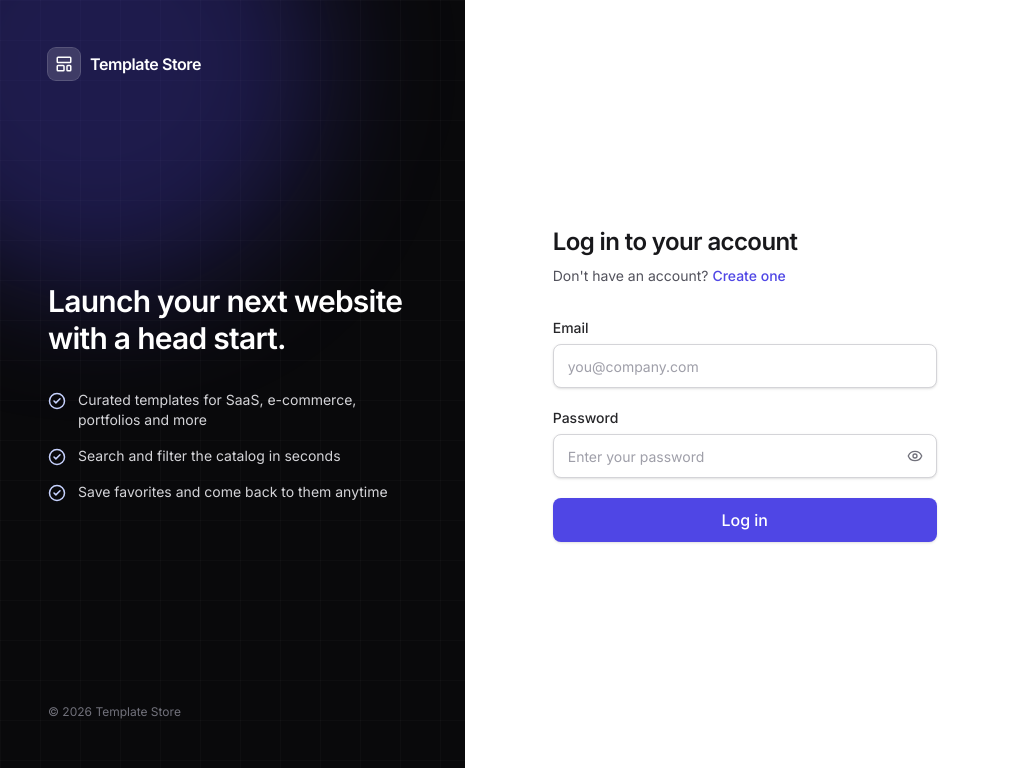
Scenario: Protected routes › returns the user to the page they originally requested after login
Type "ada@example.com" into the field labelled "Email". click: (745, 366)
box: [553,344,937,388]
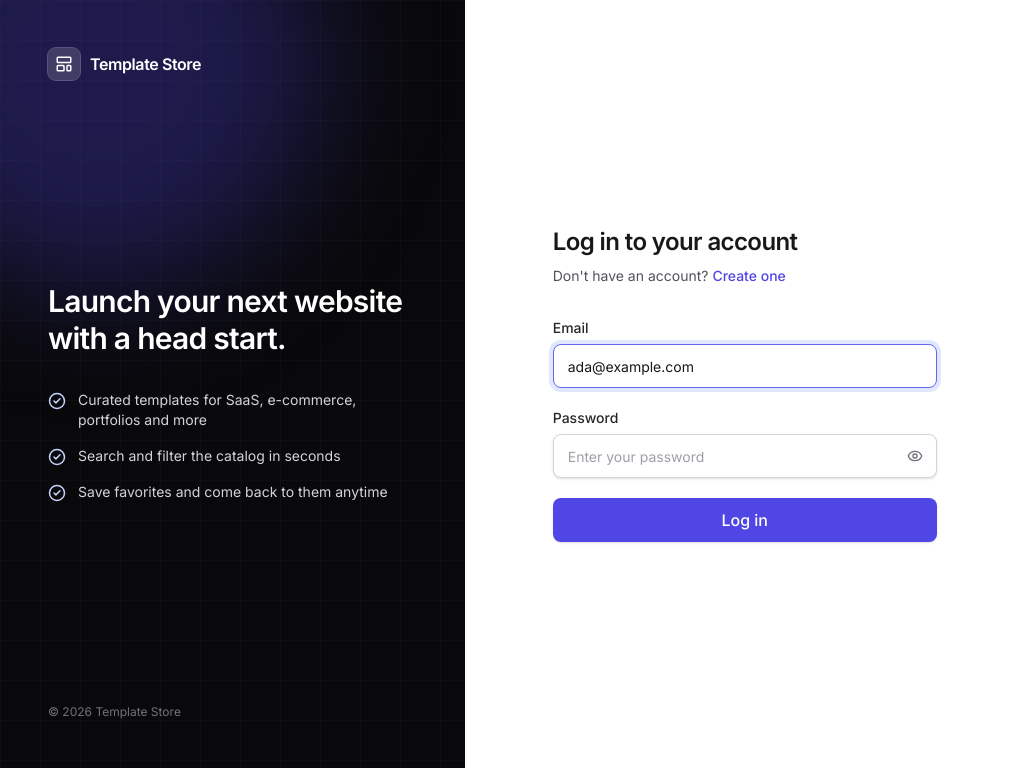
Type "Password1" into the password field labelled "Password". click: (745, 456)
box: [553,434,937,478]
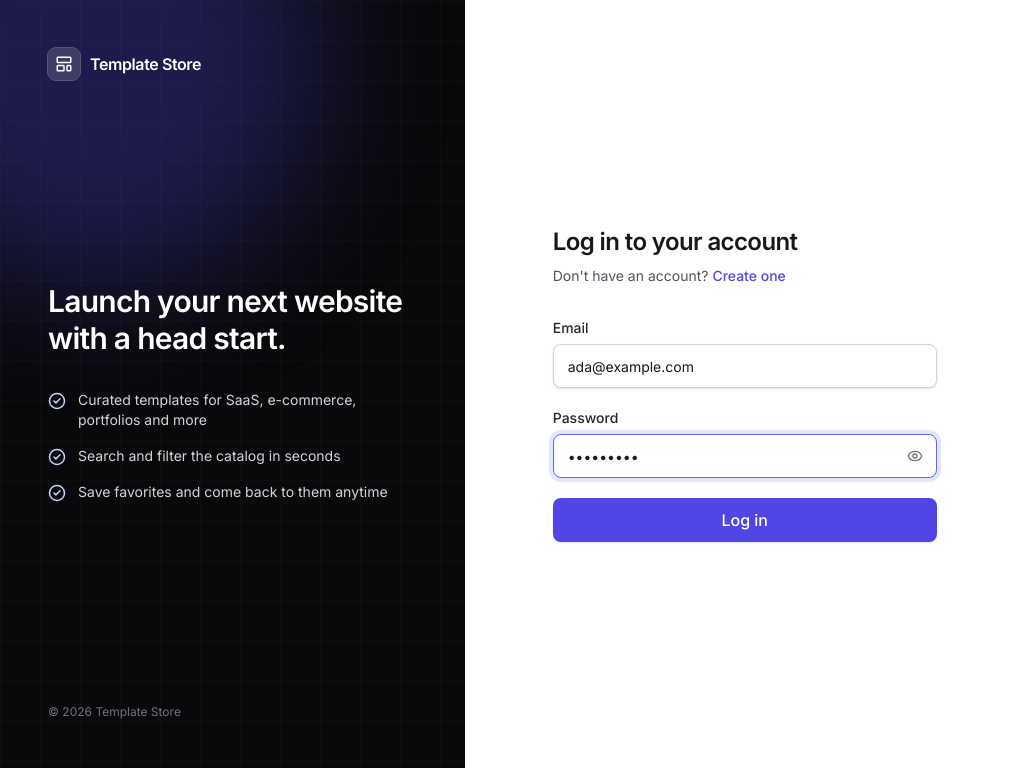
Click the button "Log in". click: (745, 520)
box: [553,498,937,542]
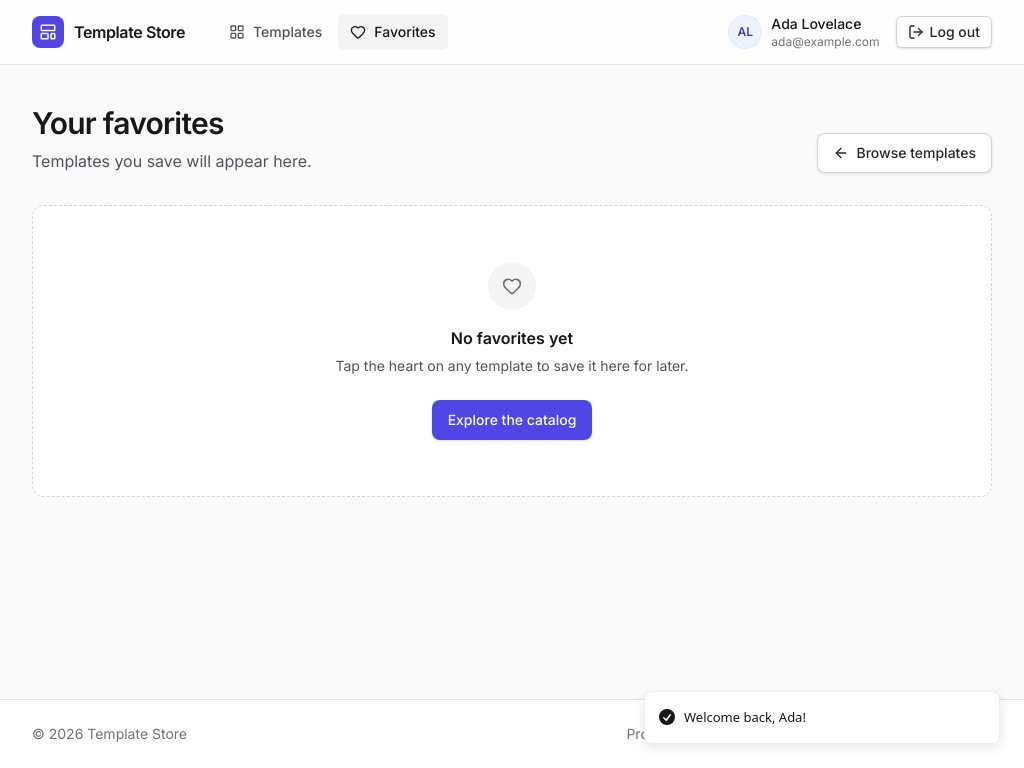
Expected: the heading "Your favorites" is shown, [32,105,224,141]
